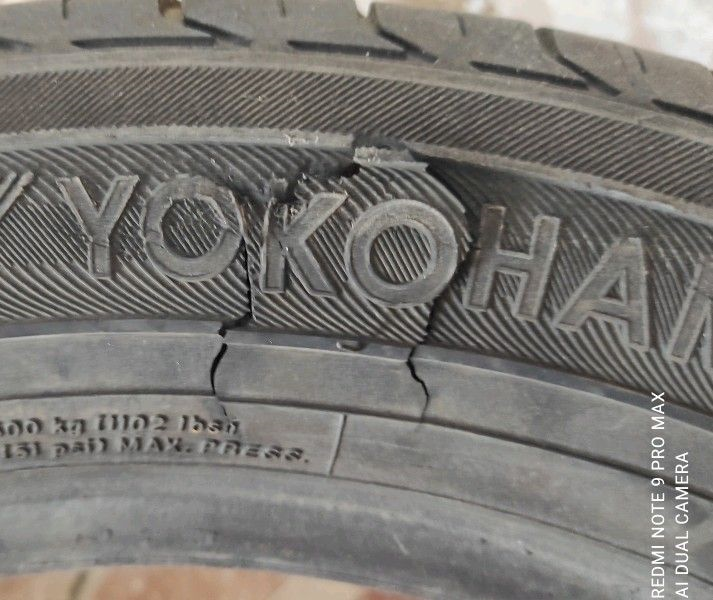cut: (195, 144, 484, 435)
